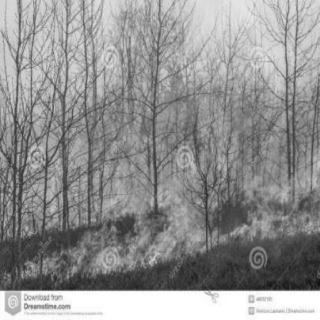Fire: (4, 101, 317, 274)
